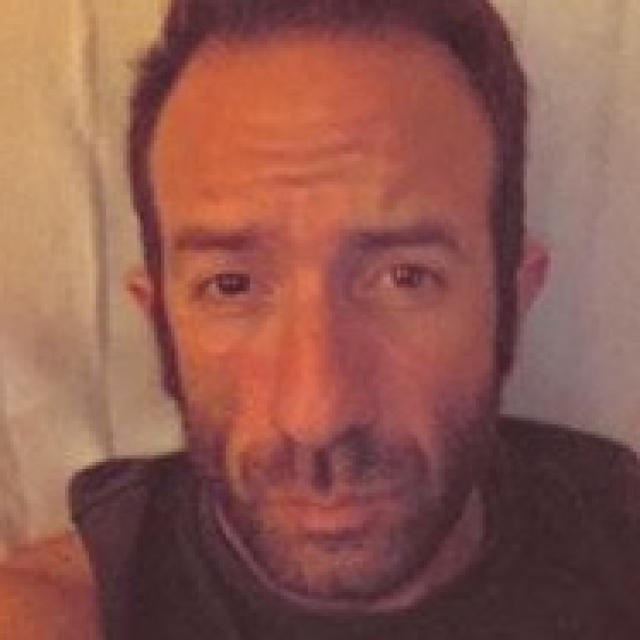Depress: (143, 37, 498, 600)
